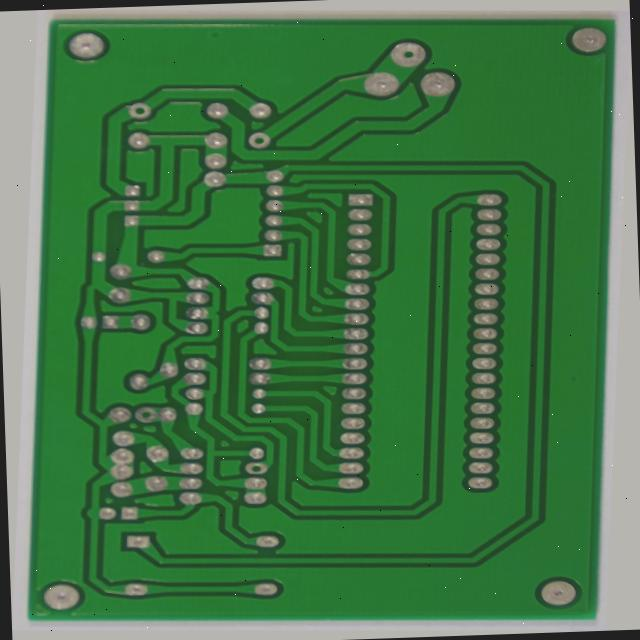missing_hole: (374, 27, 414, 58), (92, 100, 122, 122), (222, 126, 252, 148), (122, 414, 155, 434), (247, 466, 276, 485)
